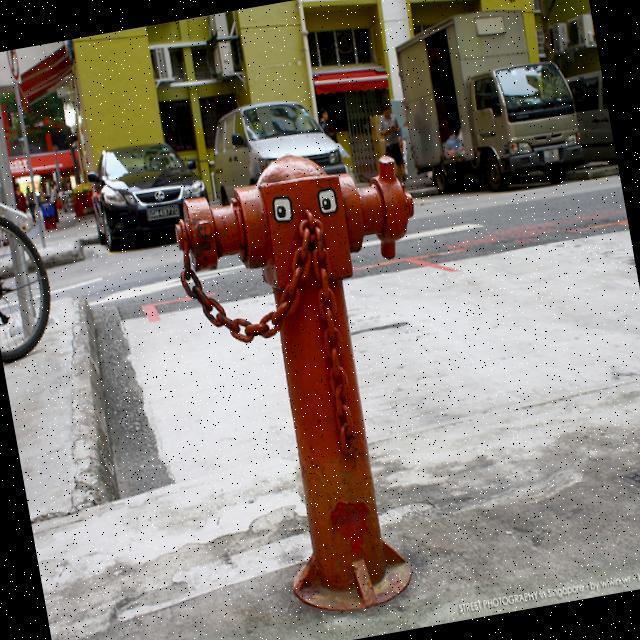fire_hydrant: (158, 132, 480, 630)
